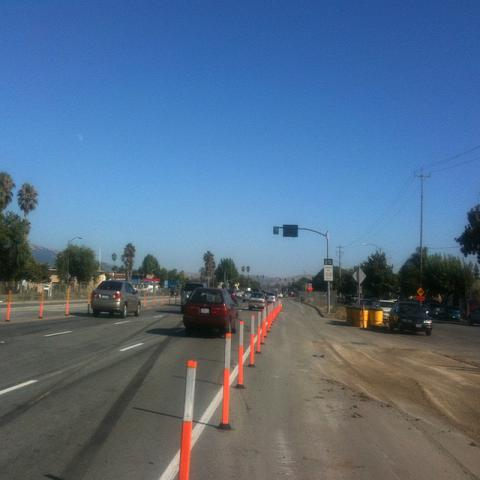car: (184, 286, 238, 336), (91, 280, 141, 317), (388, 301, 432, 336), (180, 282, 208, 313), (375, 299, 394, 319), (248, 293, 267, 310), (436, 306, 459, 320), (355, 300, 374, 310), (266, 290, 276, 304), (242, 291, 253, 302)
